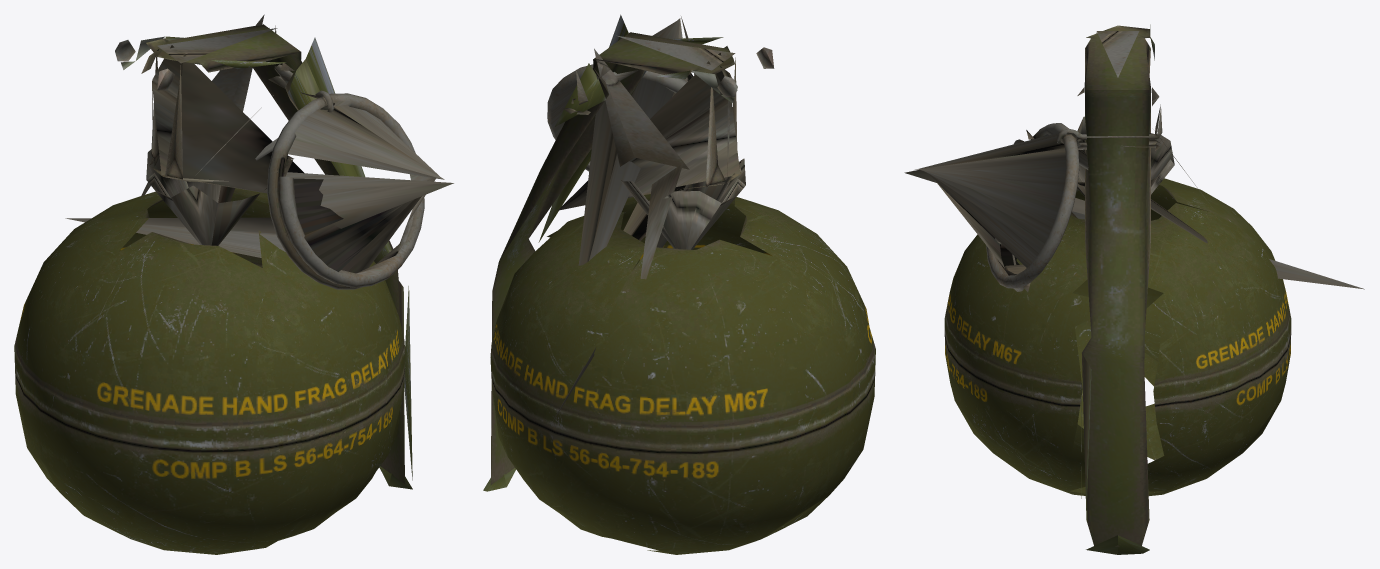
File: grenade_lod_050.obj
The picture shows the model from 3 angles, left to right: view 1: azimuth 30°, elevation 25°; view 2: azimuth 150°, elevation 25°; view 3: azimuth 270°, elevation 25°; orthographic projection. The views are drawn at different scales.
Bounding box in the file's own units: 6.5 × 8.64 × 8.29.
Materials: 1 (1 with a texture image).
